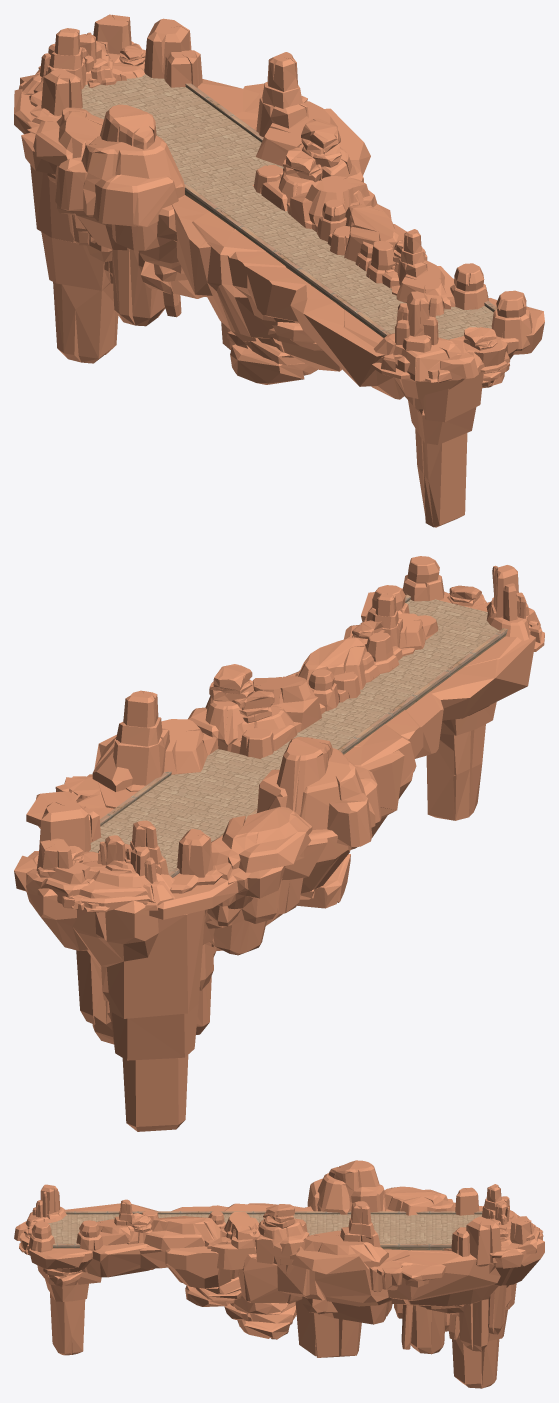
The model's file is road_5_block_E.fbx.
3 renders of one model, top to bottom at view 1: azimuth 30°, elevation 25°; view 2: azimuth 150°, elevation 25°; view 3: azimuth 270°, elevation 25°, orthographic. The views are drawn at different scales.
Parts seen in each view (by area): view 1: road_5_block_E_standie, road_5_block_E; view 2: road_5_block_E_standie, road_5_block_E; view 3: road_5_block_E_standie, road_5_block_E.
Boxes of the visible parts, bbox=[...] form: road_5_block_E_standie: bbox=[14, 14, 544, 527]; road_5_block_E: bbox=[81, 69, 496, 339]; road_5_block_E_standie: bbox=[14, 556, 544, 1131]; road_5_block_E: bbox=[89, 594, 507, 877]; road_5_block_E_standie: bbox=[14, 1160, 544, 1388]; road_5_block_E: bbox=[48, 1211, 482, 1250].
Size of the model in its own units: 2514 by 2797 by 6340.
